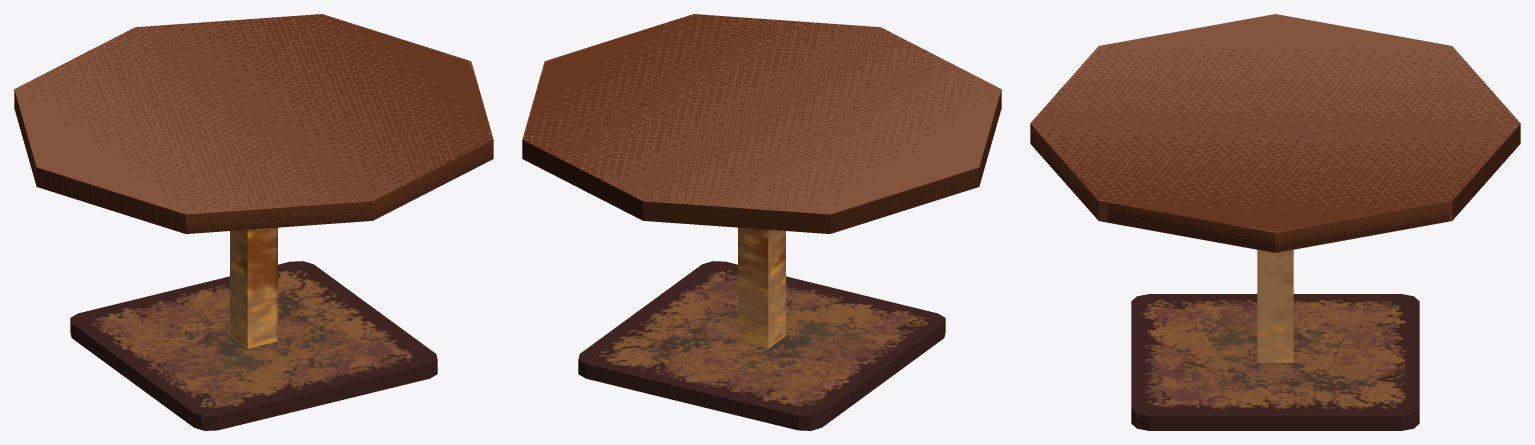
The model's file is table.fbx.
3 views of the same model, side by side, from view 1: azimuth 30°, elevation 25°; view 2: azimuth 150°, elevation 25°; view 3: azimuth 270°, elevation 25° (orthographic). The views are drawn at different scales.
Visible parts, largest first — view 1: Cube; view 2: Cube; view 3: Cube.
Boxes of the visible parts, x1,y1,x2,y2 form: Cube: [14, 14, 493, 430]; Cube: [522, 14, 1001, 430]; Cube: [1030, 14, 1520, 430].
Bounding box in the file's own units: 369 × 194 × 350.
